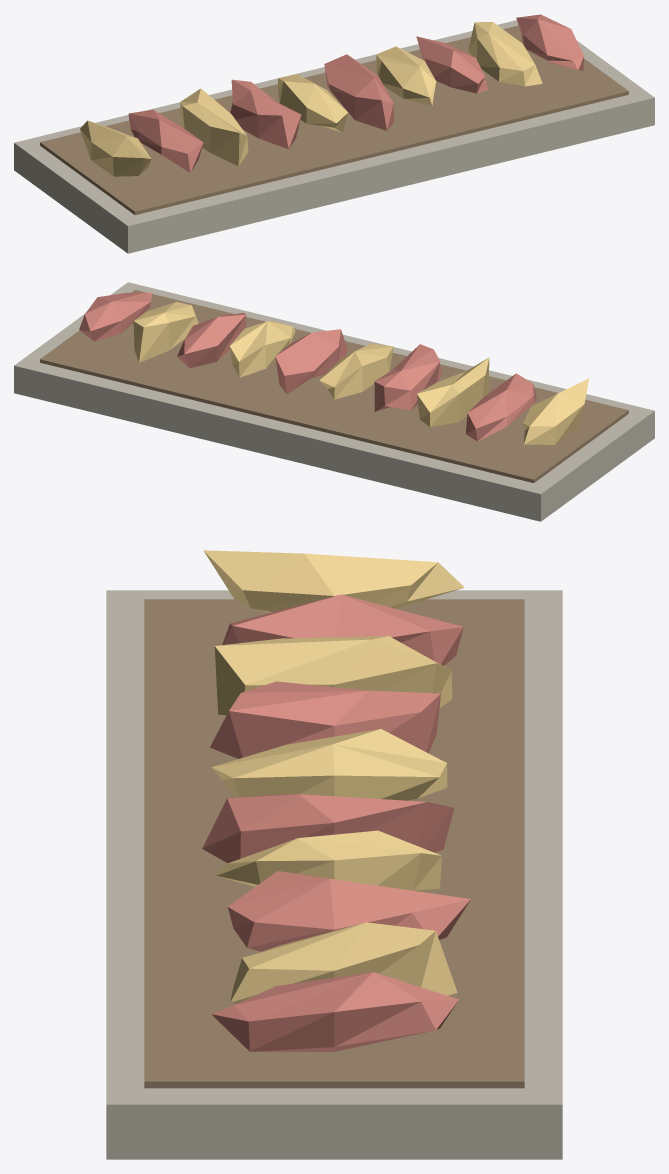
3 renders of one model, top to bottom at view 1: azimuth 30°, elevation 25°; view 2: azimuth 150°, elevation 25°; view 3: azimuth 270°, elevation 25°, orthographic. The views are drawn at different scales.
Bounding box in the file's own units: 8 × 1 × 3.
